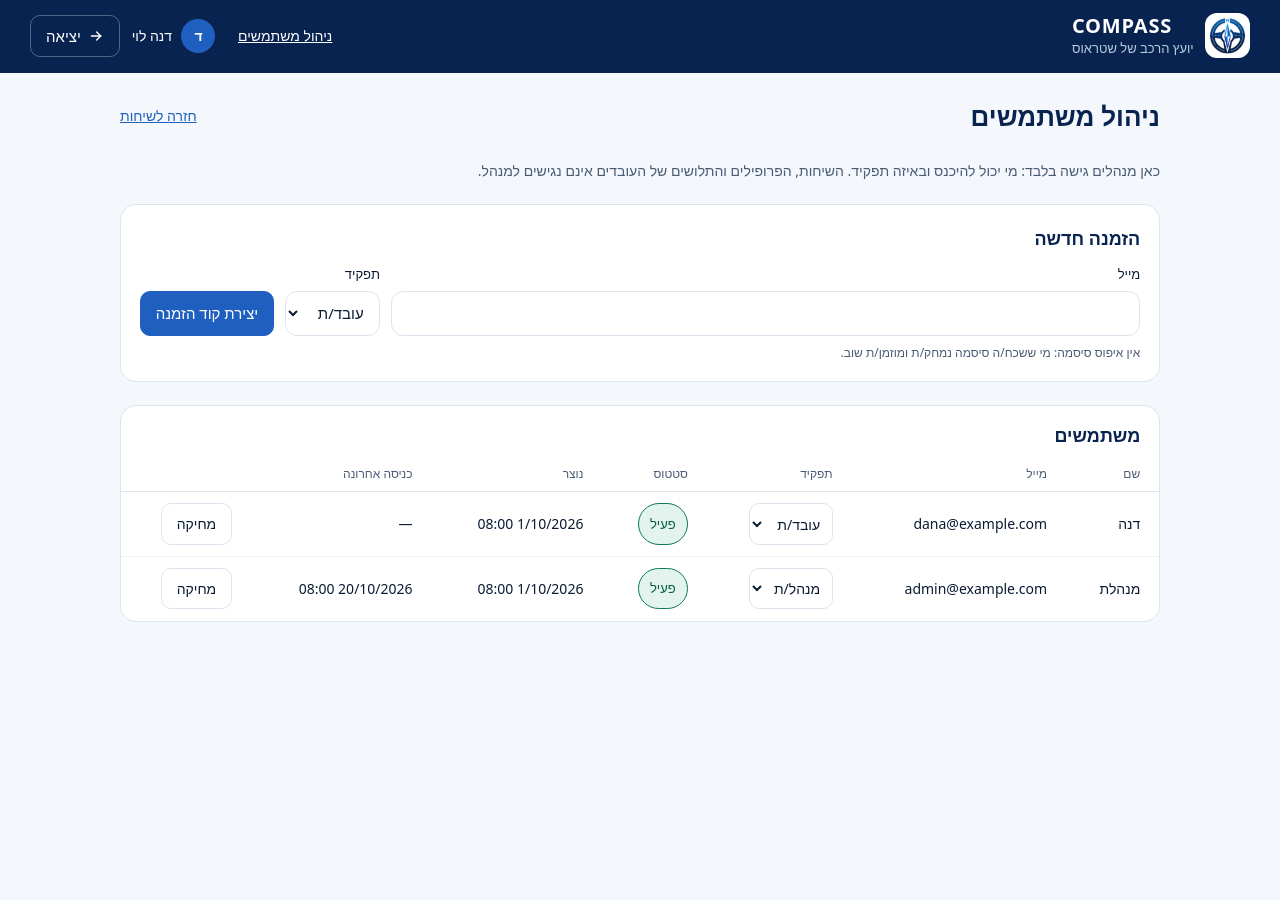
the admin page › invites: the code is shown once, with a copy button
Expected: the table "משתמשים" is shown, [121,406,1159,621]
Type "new@example.com" into the field labelled "מייל".
click(766, 313); type("new@example.com")  # box [391,291,1140,336]
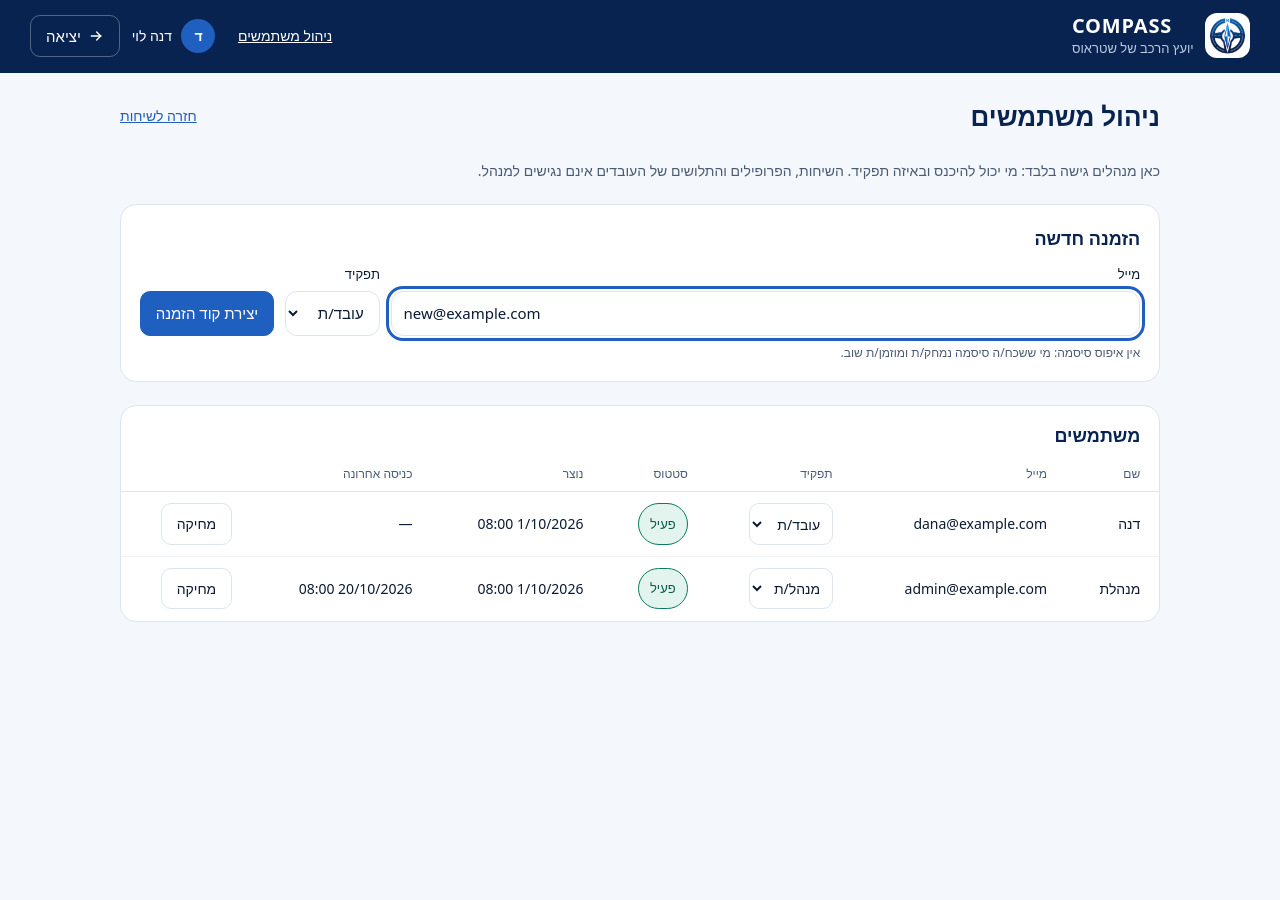
Select "נציג/ה" in the dropdown labelled "תפקיד" at [333, 313], box [286,291,380,336]
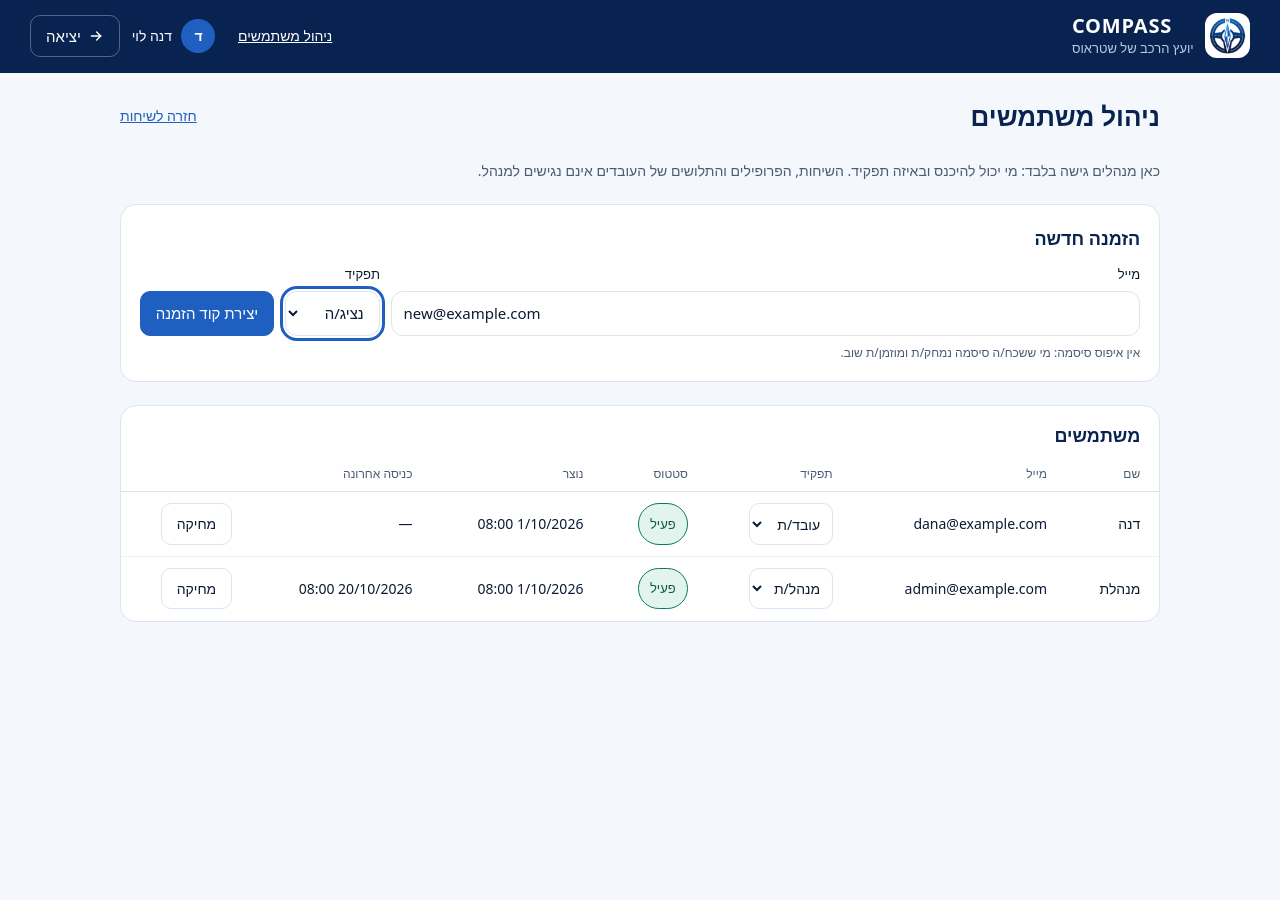
Click the button "יצירת קוד הזמנה".
click(207, 313)  # box [140,291,274,336]
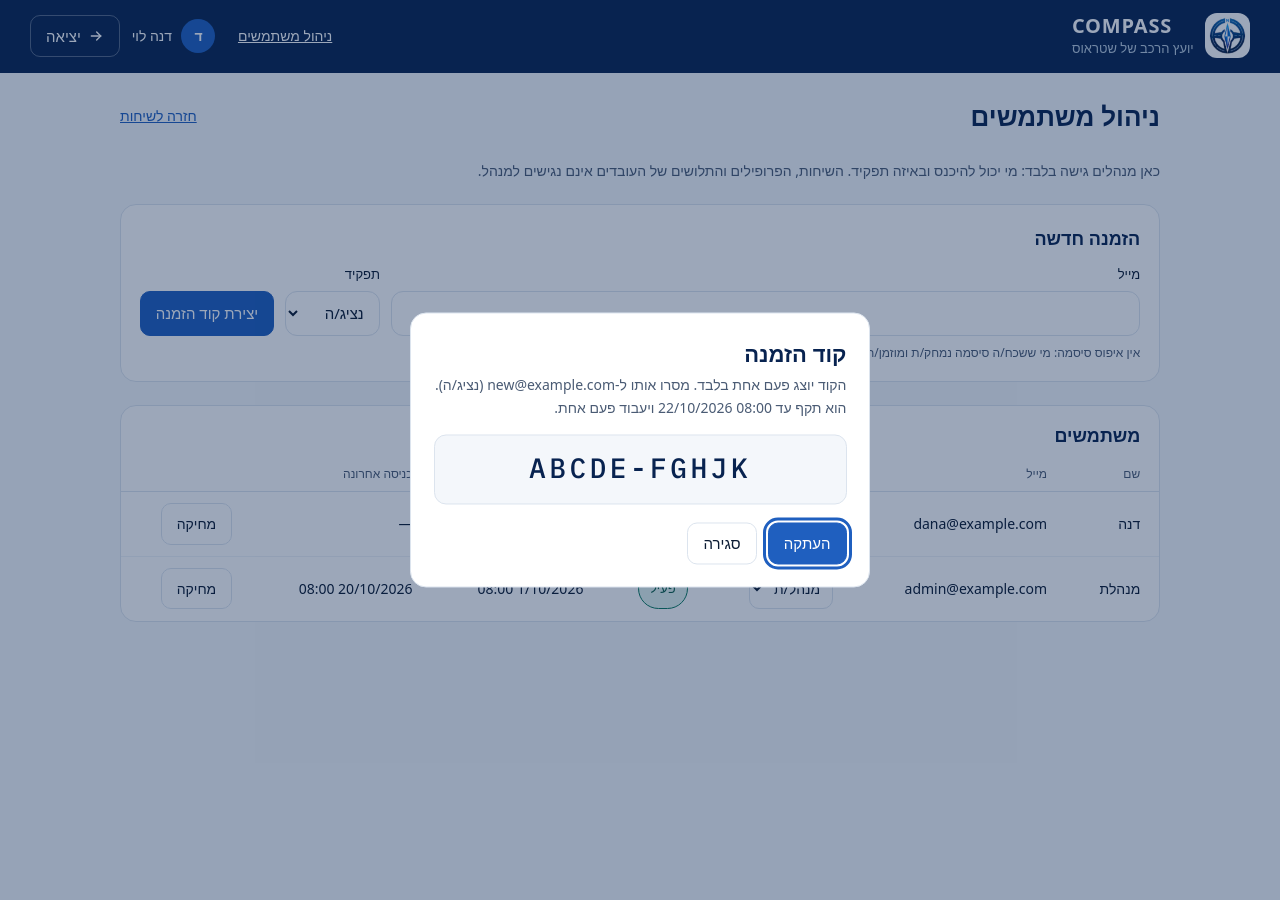
Now the text named "הקוד" reads "ABCDE-FGHJK", box [529,450,751,487]
Now the dialog "קוד הזמנה" shows "הקוד יוצג פעם אחת בלבד", box [615,376,846,395]
Click the button "העתקה".
click(807, 543)  # box [768,523,846,564]
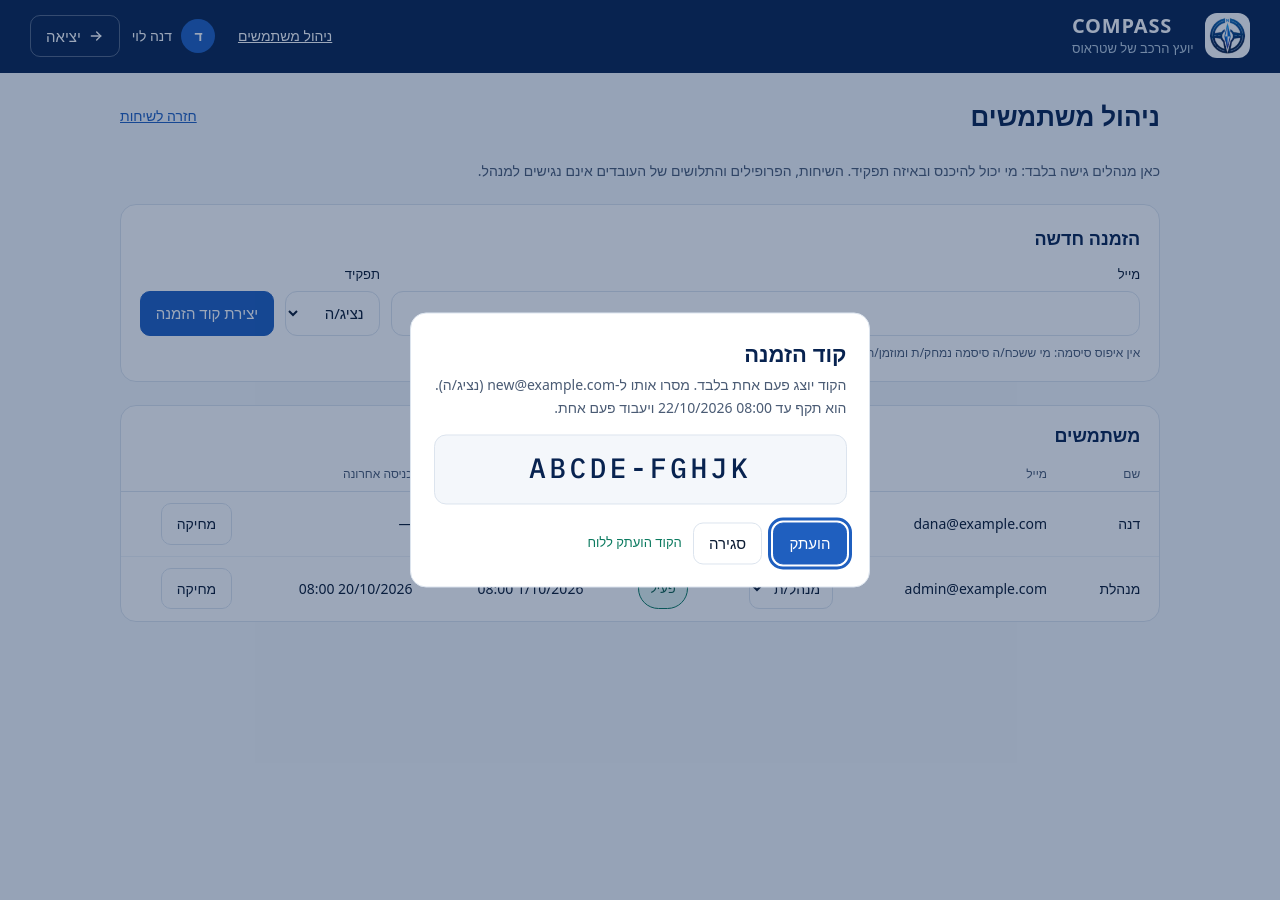
Click the button "סגירה".
click(728, 543)  # box [693,523,762,564]
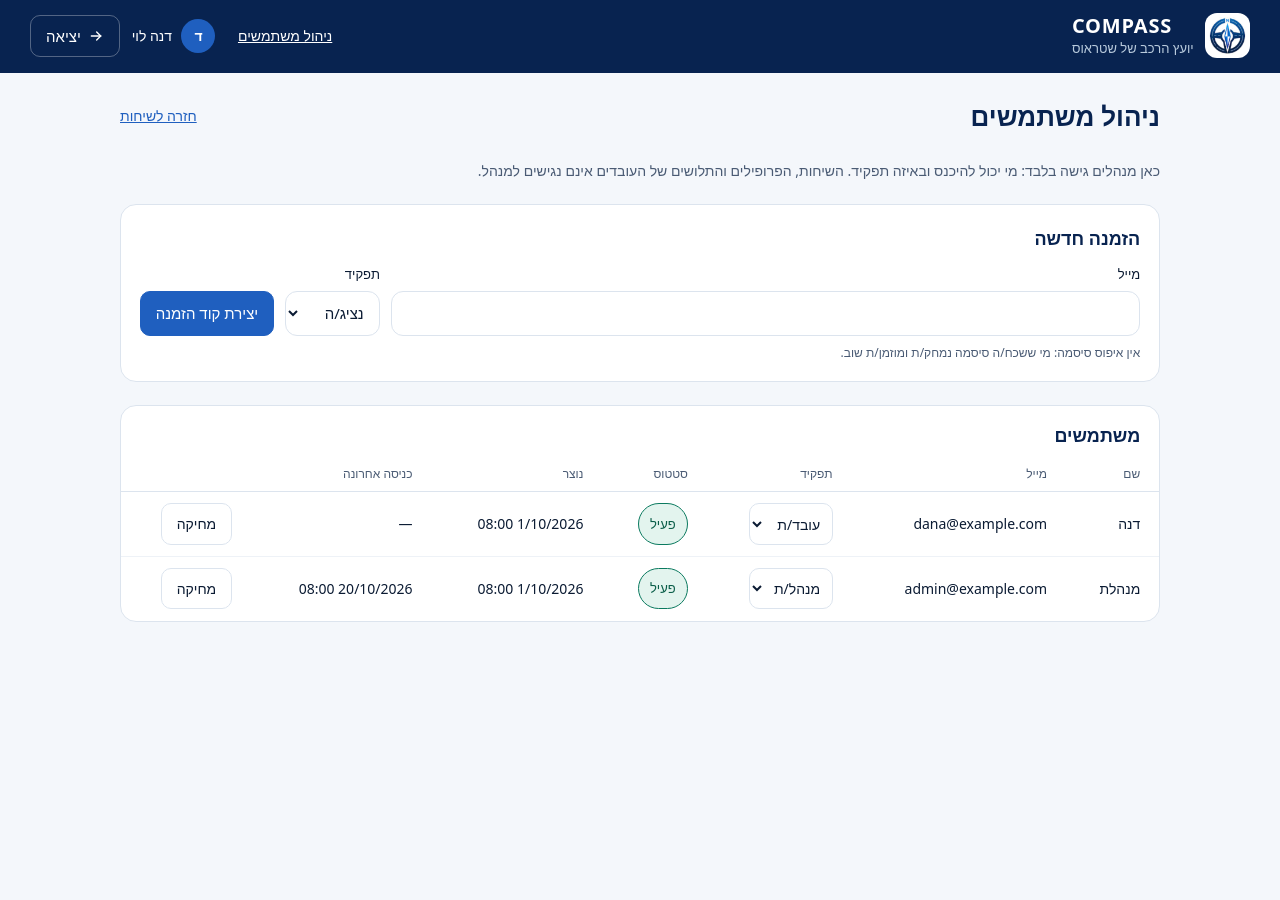
Now the text "ABCDE-FGHJK" is gone
